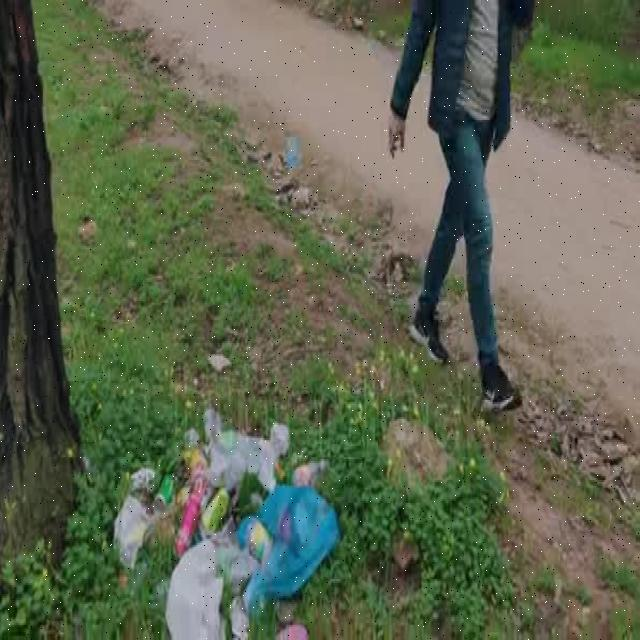human: (382, 2, 540, 420)
trash: (281, 136, 310, 181)
